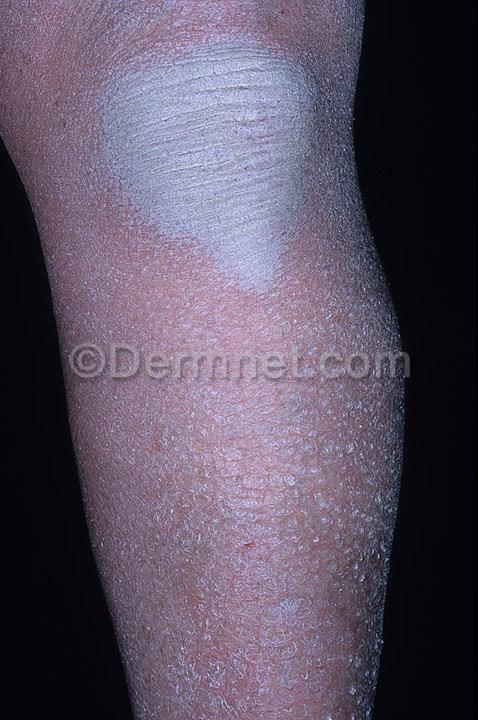xerosis 2: (43, 0, 422, 719), (0, 0, 280, 248)
